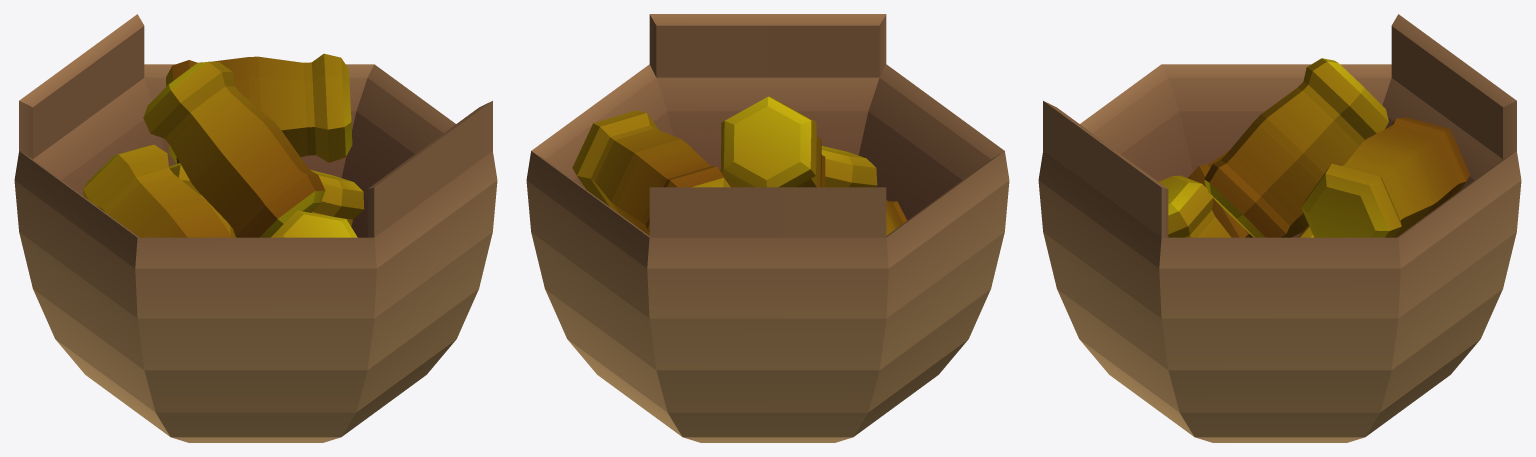
Rendered from pappa per apette_pane_api.fbx.
3 renders of one model, left to right at view 1: azimuth 30°, elevation 25°; view 2: azimuth 150°, elevation 25°; view 3: azimuth 270°, elevation 25°, orthographic.
Parts seen in each view (by area): view 1: cestino 3, Cylinder.006, Cylinder, Cylinder.004, Cylinder.005, Cylinder.003; view 2: cestino 3, Cylinder, Cylinder.006, Cylinder.003, Cylinder.004; view 3: cestino 3, Cylinder.006, Cylinder, Cylinder.003, Cylinder.004.
Part boxes in pixels (x1,y1,x2,y2): cestino 3: (14, 14, 497, 442); Cylinder.006: (143, 61, 325, 237); Cylinder: (166, 53, 352, 163); Cylinder.004: (83, 144, 232, 237); Cylinder.005: (310, 170, 364, 226); Cylinder.003: (271, 210, 357, 237); cestino 3: (526, 14, 1009, 442); Cylinder: (572, 110, 730, 235); Cylinder.006: (720, 96, 825, 187); Cylinder.003: (821, 146, 877, 187); Cylinder.004: (886, 200, 907, 235); cestino 3: (1038, 14, 1521, 442); Cylinder.006: (1204, 58, 1388, 237); Cylinder: (1301, 117, 1469, 237); Cylinder.003: (1159, 175, 1231, 237); Cylinder.004: (1188, 150, 1308, 237).
Bounding box in the file's own units: 243 × 210 × 281.
Materials: 6 (6 with a texture image).
